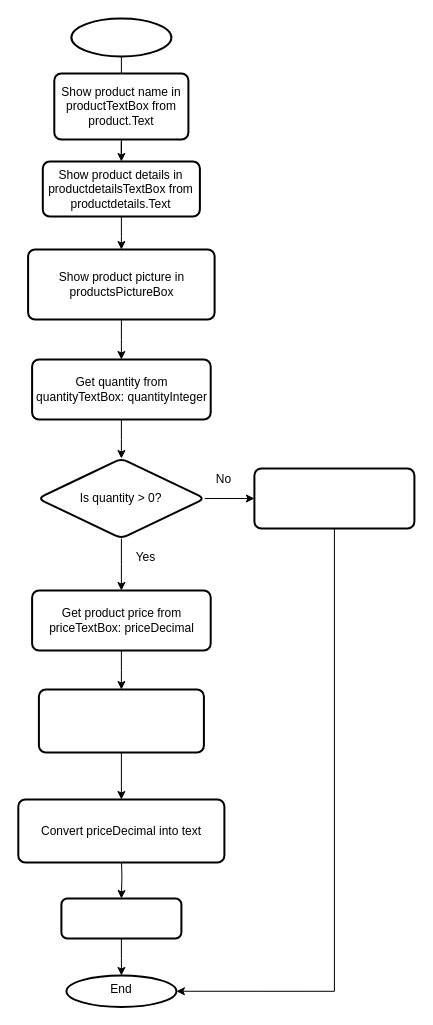
Some shapes in this 433 by 1025 pixel diagram are drawn without their labels. The shapes that lost their labels are listed below. From the top down, each one's centre as x and y in pixels, then its label:
the point at 121,37: Start
the point at 334,498: Show message "Please Enter a Quantity Larger Than 0."
the point at 120,720: Calculate Price = Product Price x Quantity
the point at 121,918: Show price in priceTextBox
